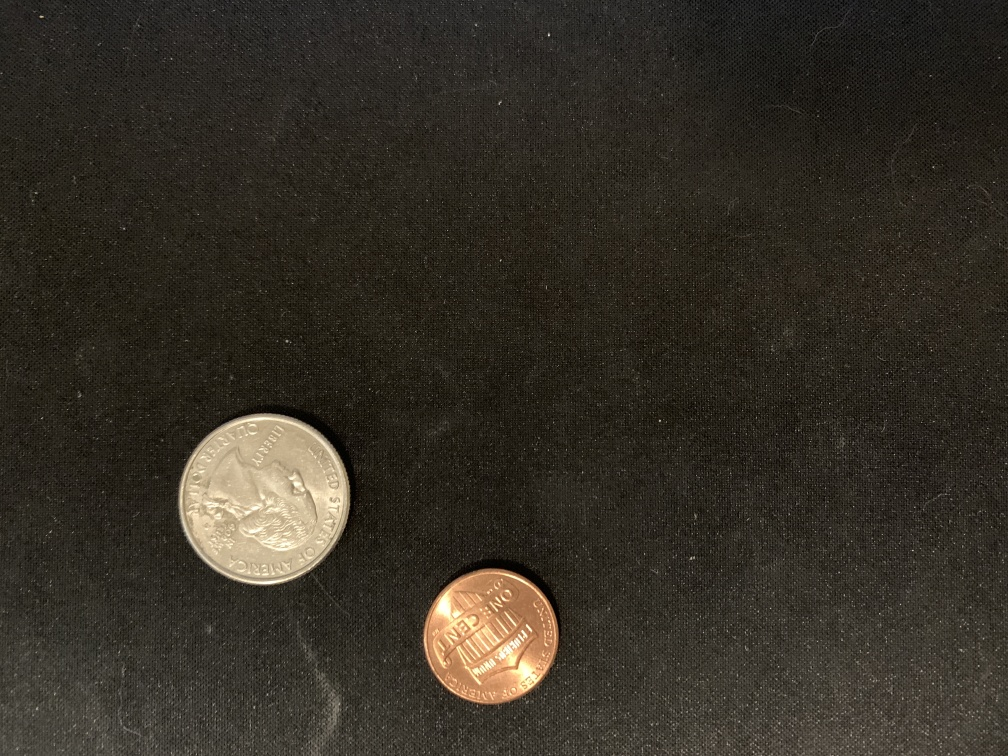penny: (418, 564, 565, 706)
quarter: (174, 407, 357, 589)
